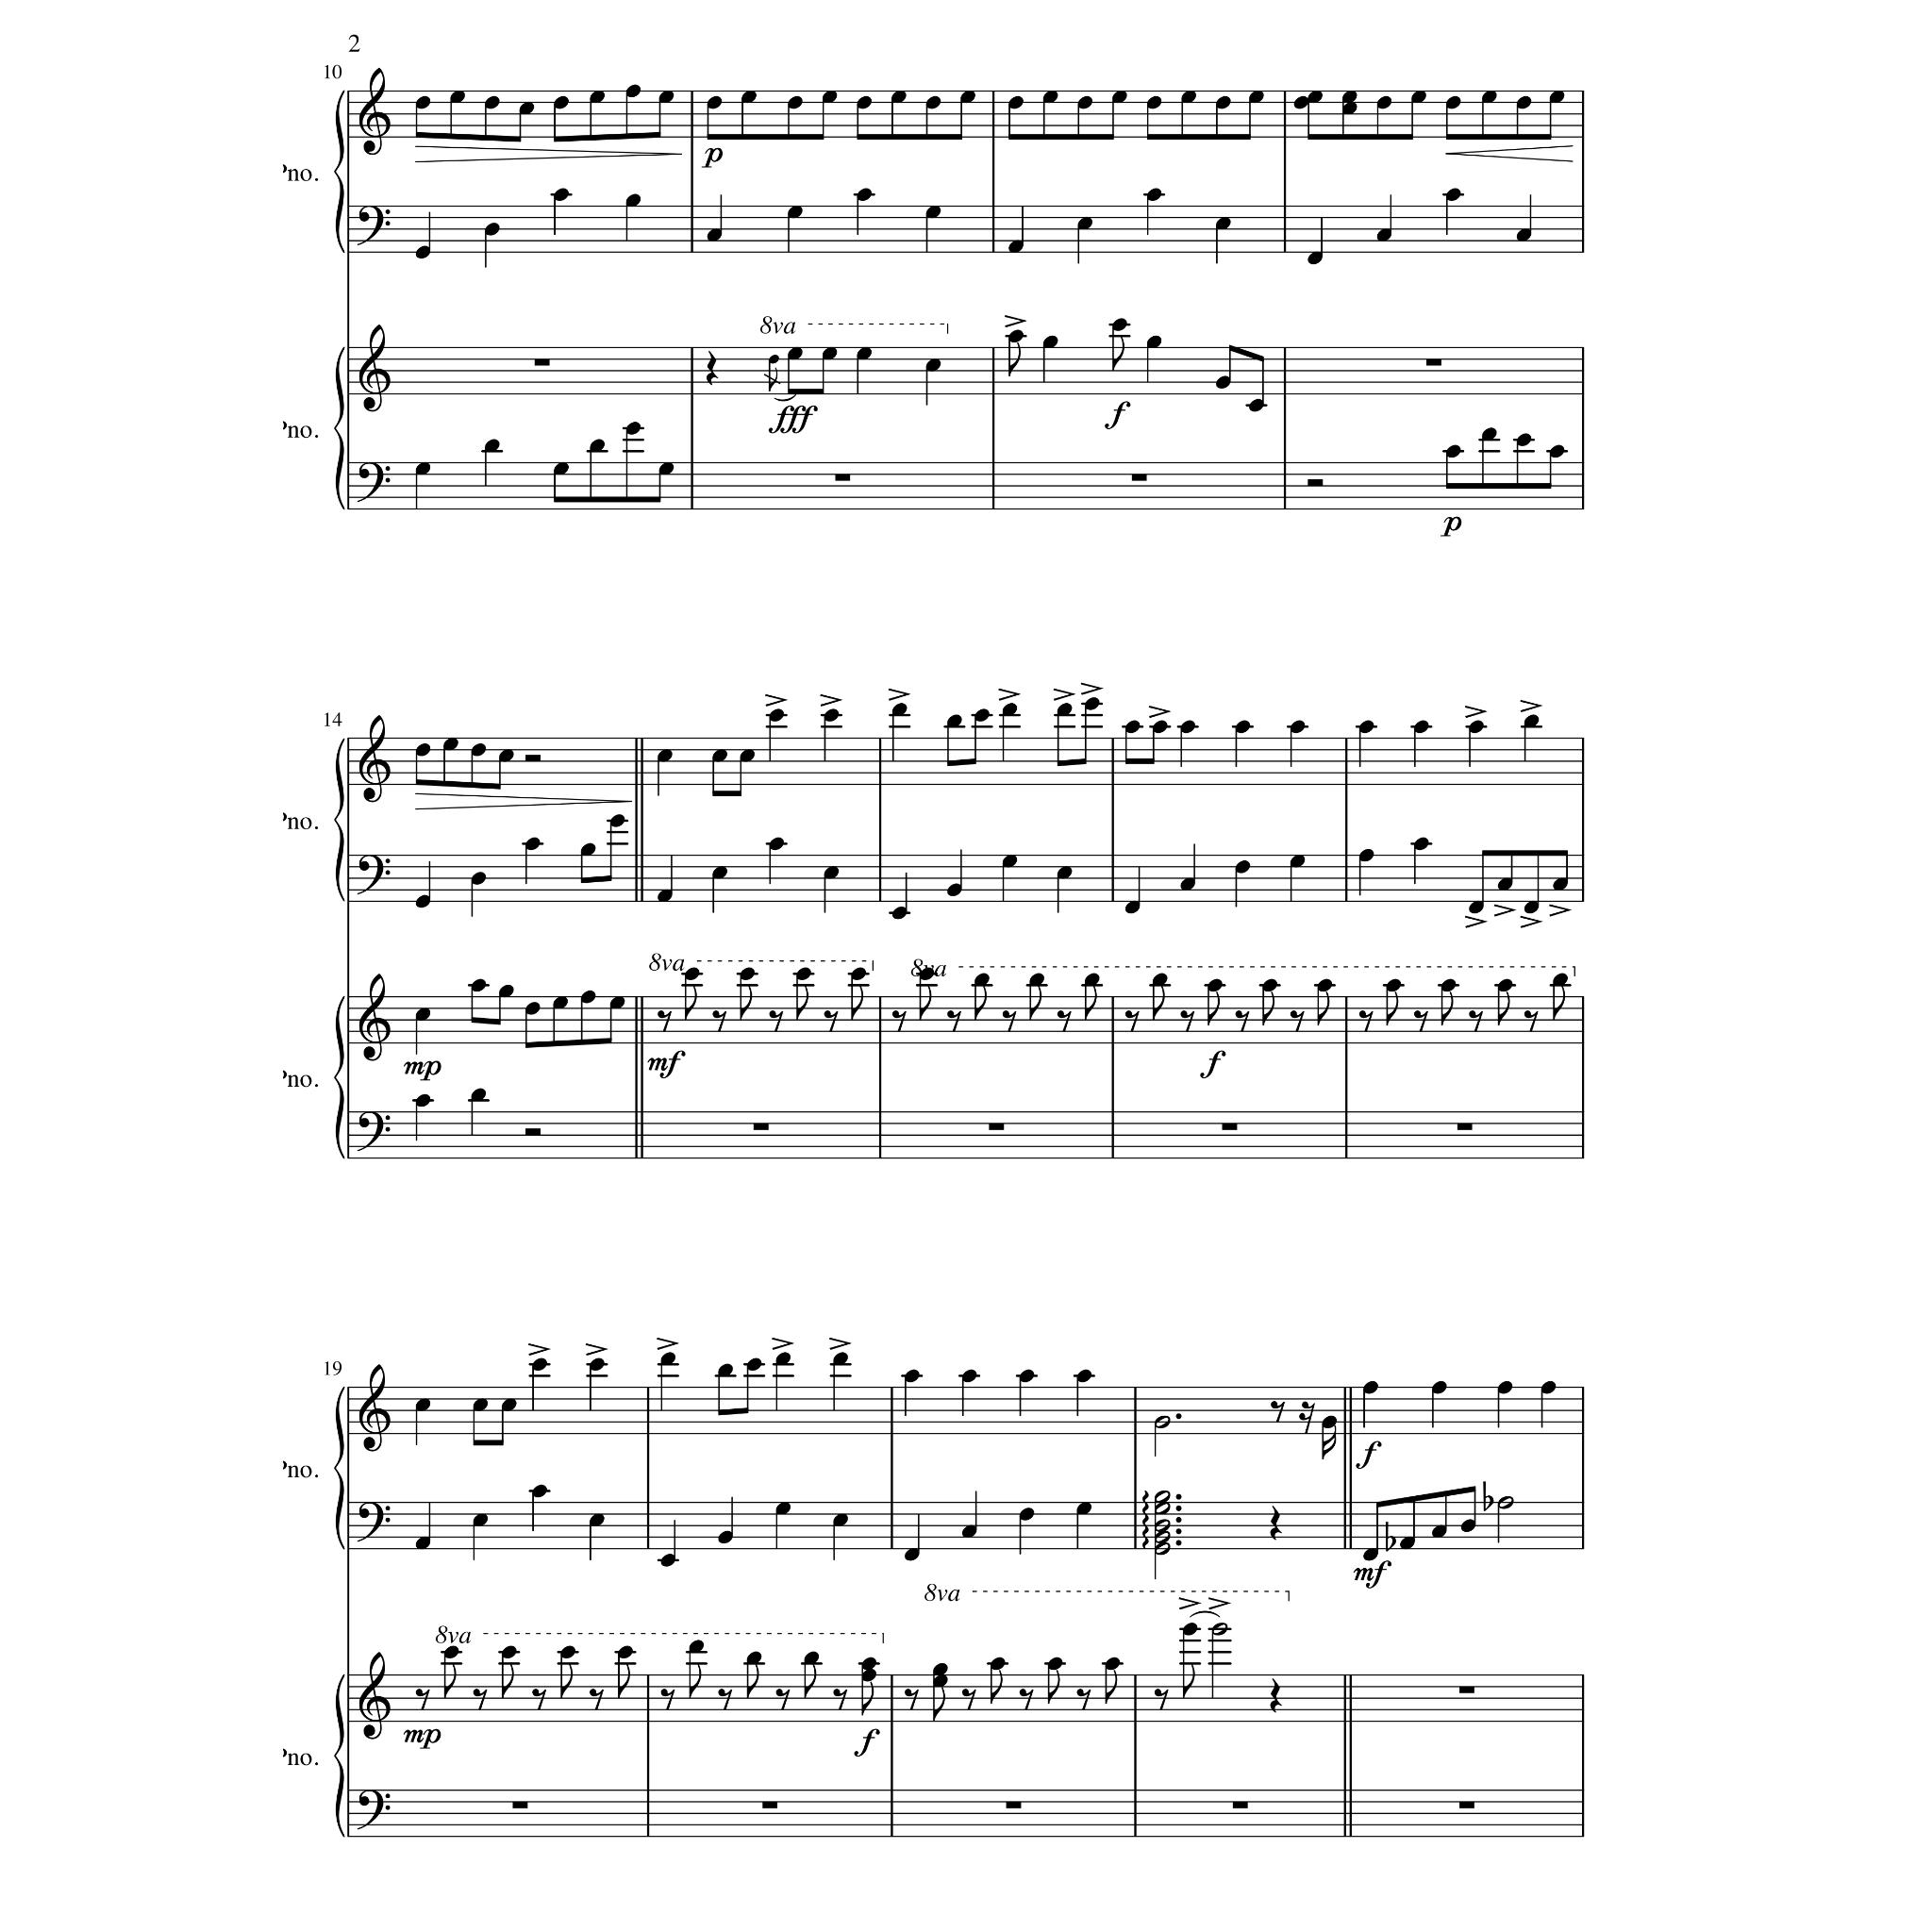brace: (333, 90, 344, 254), (333, 346, 344, 510), (333, 738, 344, 902), (333, 995, 344, 1159), (333, 1386, 344, 1550), (333, 1674, 344, 1838)
fClef: (357, 462, 391, 504), (357, 1111, 391, 1153), (357, 1502, 391, 1543), (357, 206, 391, 245), (357, 855, 391, 894), (357, 1790, 391, 1830)
flag16thDown: (1323, 1424, 1336, 1460)
flag8thDown: (762, 368, 781, 398), (1553, 985, 1566, 1021), (851, 985, 864, 1021), (796, 985, 809, 1021), (919, 985, 932, 1021), (740, 985, 753, 1021), (1262, 991, 1275, 1025), (1207, 991, 1221, 1025), (1317, 991, 1330, 1025), (932, 1687, 945, 1721), (1047, 1670, 1060, 1704), (560, 1664, 574, 1698), (443, 1664, 457, 1698), (804, 1664, 817, 1698), (689, 1664, 702, 1698), (1113, 336, 1124, 372), (1153, 985, 1164, 1021), (1030, 985, 1041, 1021), (975, 985, 987, 1021), (1085, 985, 1096, 1021), (685, 985, 696, 1021), (1009, 342, 1021, 376), (1498, 991, 1509, 1025), (1441, 991, 1453, 1025), (1387, 991, 1398, 1025), (1106, 1670, 1117, 1704), (991, 1670, 1002, 1704), (1183, 1664, 1194, 1698), (502, 1664, 513, 1698), (619, 1664, 630, 1698), (747, 1664, 758, 1698), (862, 1681, 874, 1715)
gClef: (358, 67, 391, 156), (358, 325, 391, 413), (358, 974, 391, 1062), (358, 715, 391, 804), (358, 1364, 391, 1453), (358, 1652, 391, 1740)
noteheadBlack: (1104, 1657, 1121, 1672), (960, 1524, 977, 1540), (989, 1657, 1006, 1672), (1430, 1524, 1447, 1540), (860, 1657, 877, 1672), (415, 245, 430, 260), (415, 894, 430, 909), (1047, 1657, 1062, 1672), (660, 1553, 675, 1568), (1292, 96, 1309, 109), (1041, 91, 1058, 104), (1041, 336, 1058, 349), (1111, 319, 1128, 332), (1111, 91, 1128, 104), (1145, 96, 1162, 109), (1145, 189, 1162, 202), (1145, 336, 1162, 349), (1515, 96, 1532, 109), (1515, 228, 1532, 241), (1515, 434, 1532, 447), (1341, 102, 1358, 115), (1341, 91, 1358, 104), (1375, 96, 1392, 109), (1375, 228, 1392, 241), (1481, 91, 1498, 104), (1481, 428, 1498, 441), (553, 462, 570, 475), (589, 91, 606, 104), (589, 440, 606, 453), (553, 96, 570, 109), (553, 189, 570, 202), (625, 194, 641, 208), (625, 85, 641, 98), (625, 422, 641, 435), (449, 91, 466, 104), (821, 91, 838, 104), (821, 347, 838, 360), (924, 96, 941, 109), (924, 206, 941, 219), (924, 358, 941, 372), (787, 347, 804, 360), (787, 206, 804, 219), (706, 96, 723, 109), (787, 96, 804, 109), (706, 228, 723, 241), (1179, 877, 1196, 891), (1179, 721, 1196, 734), (1151, 973, 1168, 986), (1151, 721, 1168, 734), (1289, 721, 1306, 734), (1289, 855, 1306, 868), (1234, 721, 1251, 734), (1234, 860, 1251, 874), (1028, 973, 1045, 986), (1083, 697, 1100, 710), (1083, 973, 1100, 986), (1124, 721, 1141, 734), (1124, 901, 1141, 914), (1496, 877, 1513, 891), (1496, 979, 1513, 992), (1523, 715, 1540, 728), (1523, 901, 1540, 914), (1440, 979, 1457, 992), (1468, 721, 1485, 734), (1468, 901, 1485, 914), (1385, 979, 1402, 992), (1413, 721, 1430, 734), (1413, 838, 1430, 851), (579, 843, 596, 857), (498, 749, 515, 762), (498, 985, 515, 998), (579, 991, 596, 1004), (657, 749, 674, 762), (657, 890, 674, 903), (470, 743, 487, 757), (470, 872, 487, 885), (470, 979, 487, 992), (470, 1089, 487, 1102), (891, 703, 908, 716), (891, 907, 908, 920), (823, 709, 840, 723), (823, 866, 840, 879), (974, 709, 991, 723), (974, 973, 991, 986), (711, 866, 728, 879), (683, 968, 700, 981), (711, 749, 728, 762), (768, 709, 785, 723), (768, 838, 785, 851), (960, 1370, 977, 1383), (932, 1674, 949, 1688), (932, 1663, 949, 1676), (1075, 1370, 1092, 1383), (1075, 1502, 1092, 1515), (1496, 1381, 1513, 1394), (1540, 1381, 1557, 1394), (1430, 1381, 1447, 1394), (1321, 1416, 1338, 1429), (1362, 1381, 1379, 1394), (1362, 1548, 1379, 1561), (500, 1645, 517, 1658), (500, 1398, 517, 1411), (472, 1398, 489, 1411), (472, 1513, 489, 1526), (832, 1513, 849, 1526), (832, 1352, 849, 1365), (860, 1669, 877, 1682), (717, 1364, 734, 1377), (717, 1531, 734, 1544), (745, 1652, 762, 1665), (745, 1358, 762, 1372), (1249, 399, 1264, 412), (1215, 217, 1230, 230), (1215, 376, 1230, 390), (1215, 96, 1230, 109), (1181, 91, 1196, 104), (1307, 252, 1323, 265), (1307, 91, 1323, 104), (1249, 91, 1264, 104), (1077, 96, 1092, 109), (1077, 217, 1092, 230), (1549, 91, 1564, 104), (1549, 445, 1564, 458), (1445, 96, 1460, 109), (1411, 91, 1426, 104), (1445, 189, 1460, 202), (1445, 445, 1460, 458), (519, 102, 534, 115), (658, 91, 674, 104), (658, 462, 674, 475), (485, 96, 500, 109), (485, 223, 500, 236), (485, 440, 500, 453), (415, 96, 430, 109), (415, 462, 430, 475), (857, 96, 872, 109), (857, 189, 872, 202), (857, 347, 872, 360), (960, 91, 975, 104), (1008, 96, 1024, 109), (1008, 241, 1024, 254), (1008, 330, 1024, 343), (891, 91, 906, 104), (741, 91, 757, 104), (1262, 979, 1277, 992), (1207, 979, 1223, 992), (1057, 866, 1072, 879), (1057, 703, 1072, 716), (1002, 703, 1017, 716), (1002, 855, 1017, 868), (1553, 877, 1568, 891), (1553, 973, 1568, 986), (1317, 979, 1332, 992), (1358, 721, 1374, 734), (1358, 849, 1374, 862), (553, 996, 568, 1009), (525, 838, 540, 851), (525, 1002, 540, 1015), (609, 814, 625, 827), (609, 996, 625, 1009), (415, 743, 430, 757), (415, 1008, 430, 1021), (415, 1094, 430, 1108), (443, 738, 458, 751), (851, 968, 866, 981), (947, 715, 962, 728), (947, 884, 962, 897), (919, 968, 934, 981), (796, 968, 811, 981), (740, 749, 755, 762), (740, 968, 755, 981), (1183, 1623, 1198, 1636), (1019, 1370, 1034, 1383), (1019, 1507, 1034, 1521), (1460, 1519, 1475, 1532), (1400, 1537, 1415, 1550), (532, 1358, 547, 1372), (532, 1485, 547, 1498), (560, 1645, 575, 1658), (617, 1645, 632, 1658), (660, 1352, 675, 1365), (589, 1358, 604, 1372), (589, 1513, 604, 1526), (443, 1645, 458, 1658), (415, 1398, 430, 1411), (415, 1537, 430, 1550), (804, 1652, 819, 1665), (775, 1352, 791, 1365), (775, 1502, 791, 1515), (904, 1370, 919, 1383), (904, 1548, 919, 1561), (689, 1640, 704, 1653), (768, 355, 779, 364)
noteheadHalf: (1154, 1502, 1171, 1515), (1154, 1491, 1171, 1504), (1154, 1519, 1171, 1532), (1154, 1531, 1171, 1544), (1154, 1542, 1171, 1556), (1154, 1416, 1171, 1429), (1497, 1496, 1514, 1509), (1211, 1623, 1228, 1636)
rest16th: (1298, 1401, 1315, 1435)
rest8th: (1180, 1010, 1195, 1033), (1290, 1010, 1305, 1033), (1235, 1010, 1250, 1033), (1057, 1010, 1072, 1033), (1002, 1010, 1017, 1033), (1124, 1010, 1140, 1033), (1524, 1010, 1539, 1033), (1358, 1010, 1374, 1033), (1468, 1010, 1483, 1033), (1413, 1010, 1428, 1033), (657, 1010, 672, 1033), (891, 1010, 907, 1033), (946, 1010, 961, 1033), (824, 1010, 839, 1033), (711, 1010, 726, 1033), (769, 1010, 784, 1033), (1154, 1689, 1169, 1711), (961, 1689, 976, 1711), (1076, 1689, 1091, 1711), (1019, 1689, 1034, 1711), (1270, 1401, 1285, 1424), (531, 1689, 546, 1711), (660, 1689, 675, 1711), (589, 1689, 604, 1711), (472, 1689, 487, 1711), (415, 1689, 430, 1711), (832, 1689, 847, 1711), (774, 1689, 790, 1711), (904, 1689, 919, 1711), (718, 1689, 733, 1711)
restHalf: (525, 755, 541, 762), (525, 1128, 541, 1136), (1307, 479, 1323, 487)
restQuarter: (706, 351, 719, 387), (1270, 1677, 1281, 1713), (1270, 1506, 1281, 1540)
restWhole: (1130, 475, 1147, 482), (834, 475, 851, 482), (1221, 1124, 1238, 1131), (511, 1801, 528, 1808), (1426, 359, 1441, 367), (534, 359, 549, 367), (989, 1124, 1004, 1131), (753, 1124, 768, 1131), (1457, 1124, 1472, 1131), (1232, 1801, 1247, 1808), (1006, 1801, 1021, 1808), (762, 1801, 777, 1808), (1458, 1801, 1474, 1808), (1458, 1687, 1474, 1694)
